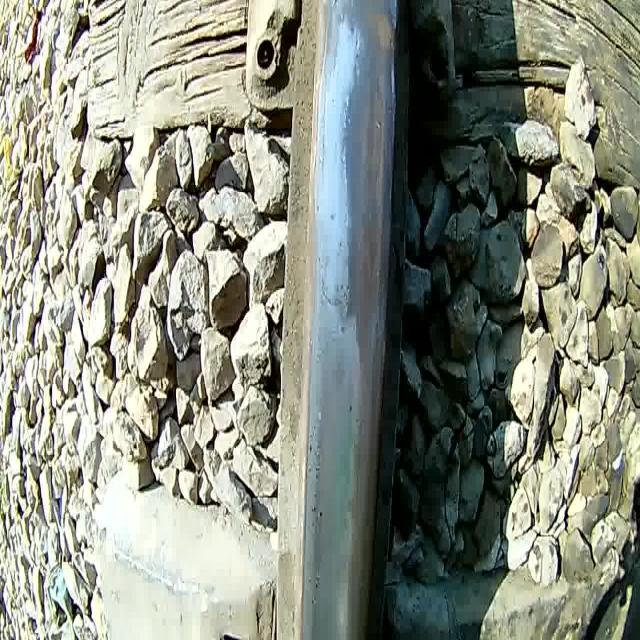Squats: (321, 0, 399, 395)
